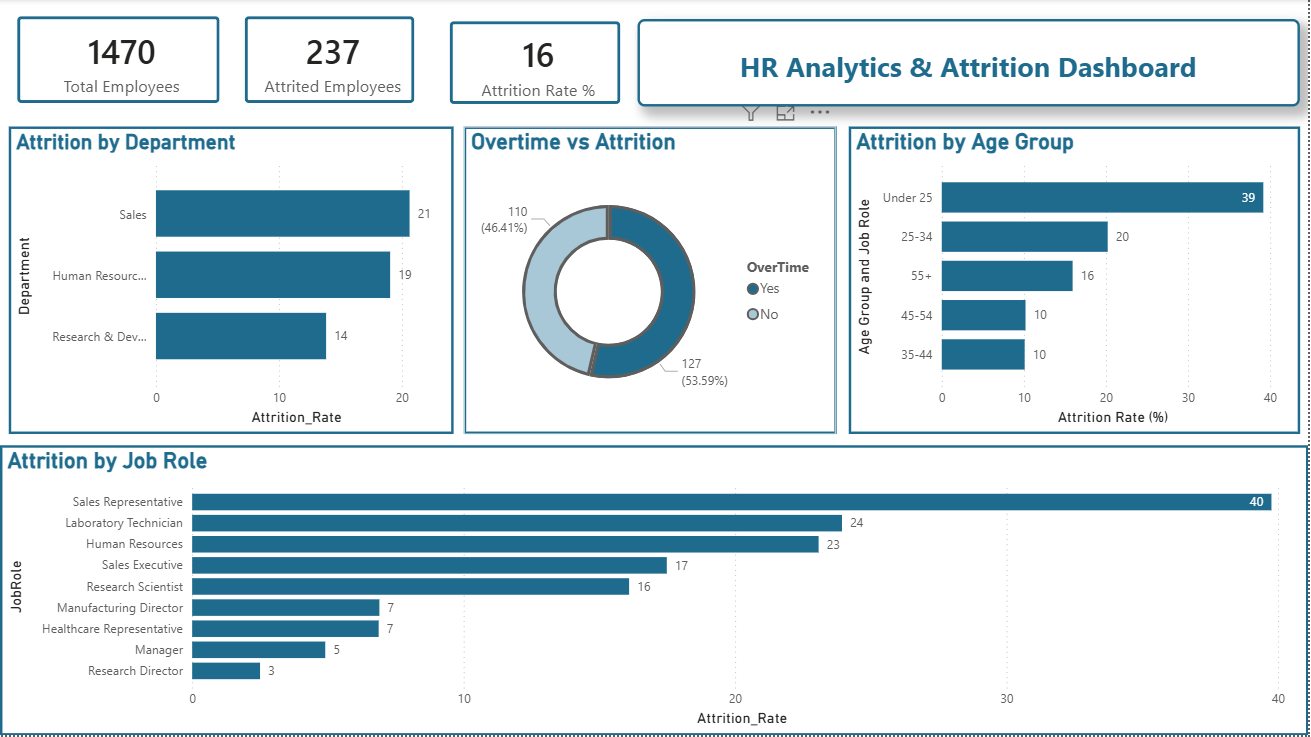

This screenshot's page, from the dashboard's own definition file:
{"tool":"powerbi","page":{"name":"Page 1","canvas":[1280,720],"ordinal":0},"visuals":[{"type":"cardVisual","fields":{"Data":["hr_attrition.Total_Employees"]},"box":[0,0,232.3,119.8],"z":0},{"type":"cardVisual","fields":{"Data":["hr_attrition.Attrited_Employees"]},"box":[222.6,0,200.5,119.8],"z":1},{"type":"cardVisual","fields":{"Data":["hr_attrition.Attrition_Rate"]},"box":[422.6,5.5,201.7,115.3],"z":2},{"type":"clusteredBarChart","title":"Attrition by Department","fields":{"Category":["hr_attrition.Department"],"Y":["hr_attrition.Attrition_Rate"]},"box":[8.6,124.7,435.3,300.8],"z":3},{"type":"donutChart","title":"Overtime vs Attrition","fields":{"Category":["hr_attrition.OverTime"],"Y":["hr_attrition.Attrited_Employees"]},"box":[453.7,124.7,364.4,300.8],"z":4},{"type":"clusteredBarChart","title":"Attrition by Age Group","fields":{"Category":["hr_attrition.Age_Group"],"Y":["hr_attrition.Attrition_Rate"]},"box":[830.3,124.7,441.4,300.8],"z":5},{"type":"clusteredBarChart","title":"Attrition by Job Role","fields":{"Category":["hr_attrition.JobRole"],"Y":["hr_attrition.Attrition_Rate"]},"box":[0,436.2,1280.3,284.1],"z":6},{"type":"textbox","box":[623.6,19.6,648.1,85.6],"z":7}]}

Visuals, with their boxes in screenshot pixels (x1, y1, x2, y2), scaled from the page's 1280x720 canvas onto the 1311x737 screenshot:
cardVisual - hr_attrition.Total_Employees: pyautogui.locateOnScreen(0, 0, 238, 123)
cardVisual - hr_attrition.Attrited_Employees: pyautogui.locateOnScreen(228, 0, 433, 123)
cardVisual - hr_attrition.Attrition_Rate: pyautogui.locateOnScreen(433, 6, 639, 124)
"Attrition by Department" clusteredBarChart: pyautogui.locateOnScreen(9, 128, 455, 436)
"Overtime vs Attrition" donutChart: pyautogui.locateOnScreen(465, 128, 838, 436)
"Attrition by Age Group" clusteredBarChart: pyautogui.locateOnScreen(850, 128, 1302, 436)
"Attrition by Job Role" clusteredBarChart: pyautogui.locateOnScreen(0, 446, 1310, 736)
textbox: pyautogui.locateOnScreen(639, 20, 1302, 108)
